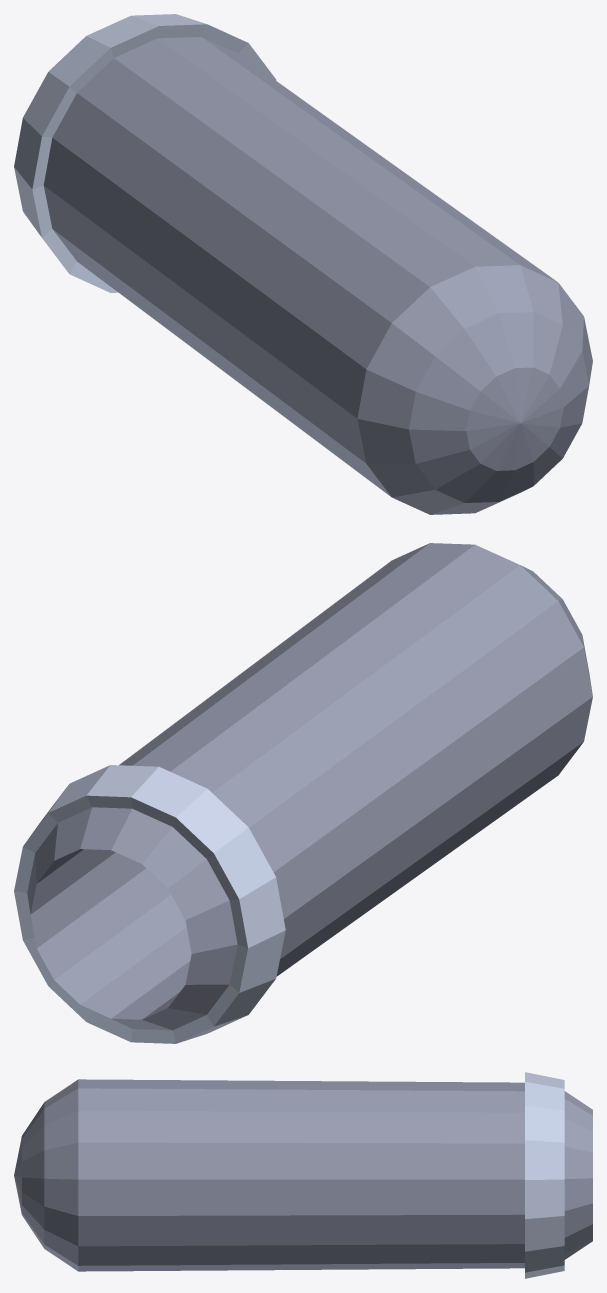
File: rocketlauncher_tube.fbx
The picture shows the model from 3 angles, top to bottom: view 1: azimuth 30°, elevation 25°; view 2: azimuth 150°, elevation 25°; view 3: azimuth 270°, elevation 25°; orthographic projection. The views are drawn at different scales.
Visible parts, largest first — view 1: tube; view 2: tube; view 3: tube.
Part boxes in pixels (<box>): tube: <box>14,14,592,514</box>; tube: <box>14,543,592,1043</box>; tube: <box>14,1072,592,1278</box>.
Bounding box in the file's own units: 13.31 × 13.31 × 37.26.
